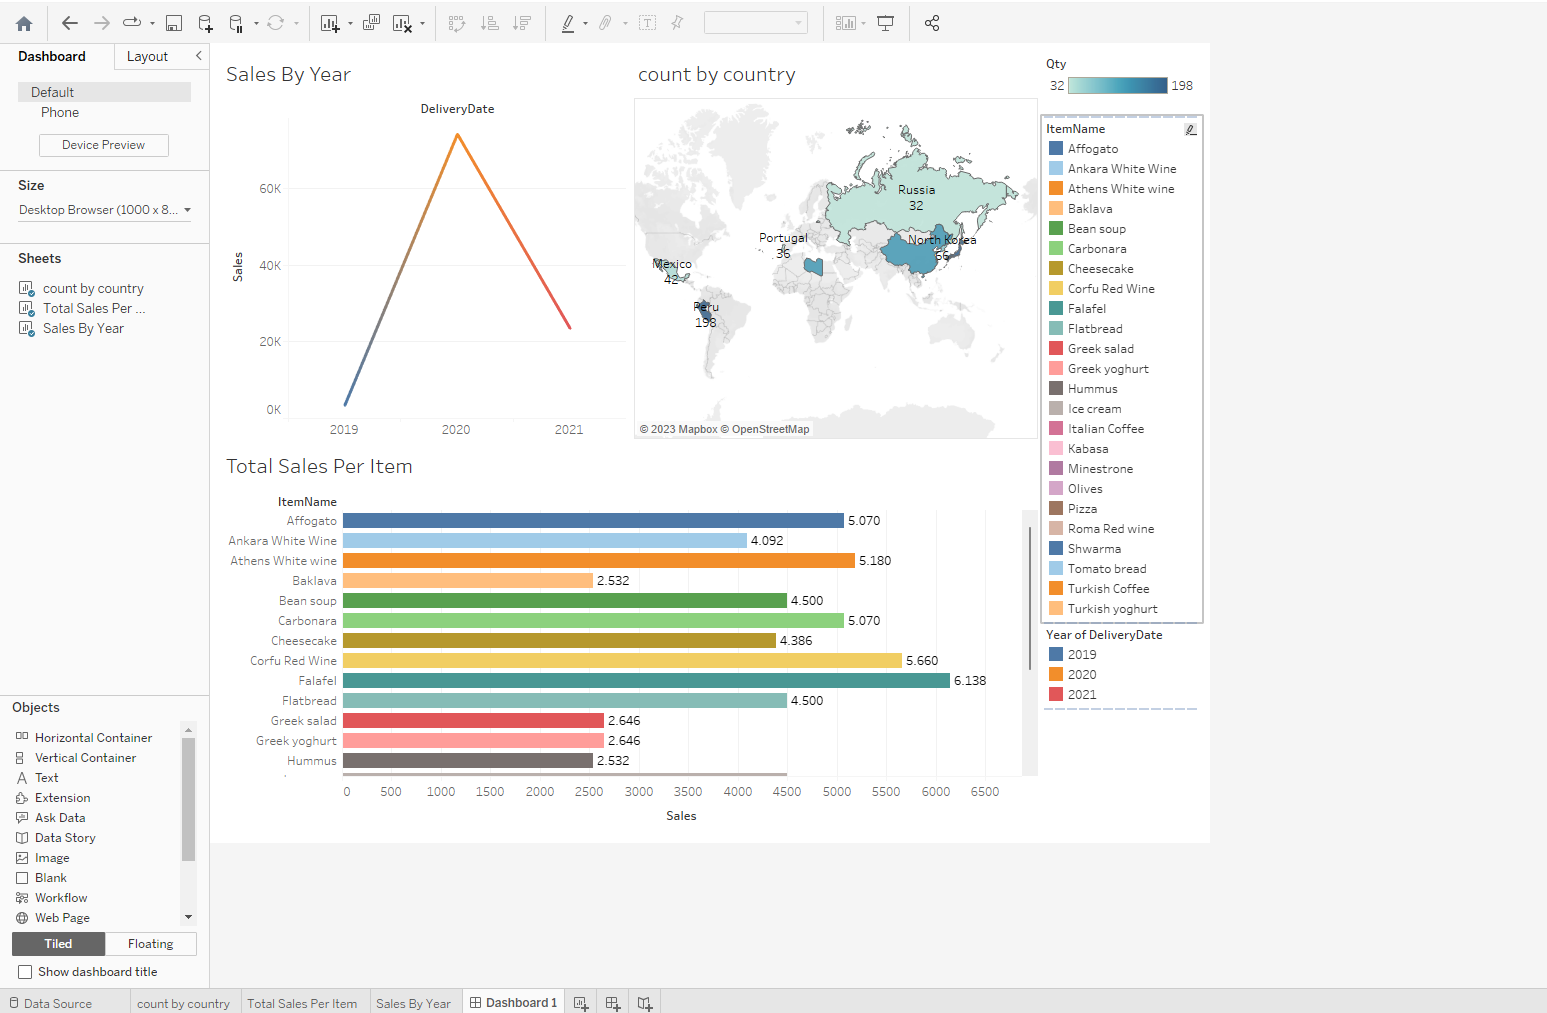

This screenshot's page, from the dashboard's own definition file:
{"tool":"tableau","page":{"name":"Dashboard 1","canvas":[1000,800],"ordinal":0},"visuals":[{"type":"worksheet","title":"Sales By Year","mark":"Line","rows":["Sales"],"cols":["DeliveryDate"],"box":[8,8,412,392]},{"type":"worksheet","title":"count by country","mark":"Automatic","box":[420,8,412,392]},{"type":"legend","title":"count by country","param":"[federated.1k3l53g0obgu8110a93o31dzfxai].[sum:Qty:qk]","box":[832,8,160,65]},{"type":"legend","title":"Total Sales Per Item","param":"[federated.1k3l53g0obgu8110a93o31dzfxai].[none:ItemName:nk]","box":[832,73,160,506]},{"type":"worksheet","title":"Total Sales Per Item","mark":"Bar","rows":["ItemName"],"cols":["Sales"],"box":[8,400,824,392]},{"type":"legend","title":"Sales By Year","param":"[federated.1k3l53g0obgu8110a93o31dzfxai].[yr:DeliveryDate:ok]","box":[832,579,160,86]}]}

Visuals, with their boxes on the page's 1000x800 design canvas (x1, y1, x2, y2). These are canvas units, not pixel positions in the 1547x1013 screenshot, which may show the page scaled, cropped or inside an application window:
"Sales By Year" worksheet (Line marks): x1=8 y1=8 x2=420 y2=400
"count by country" worksheet: x1=420 y1=8 x2=832 y2=400
"count by country" legend: x1=832 y1=8 x2=992 y2=73
"Total Sales Per Item" legend: x1=832 y1=73 x2=992 y2=579
"Total Sales Per Item" worksheet (Bar marks): x1=8 y1=400 x2=832 y2=792
"Sales By Year" legend: x1=832 y1=579 x2=992 y2=665
